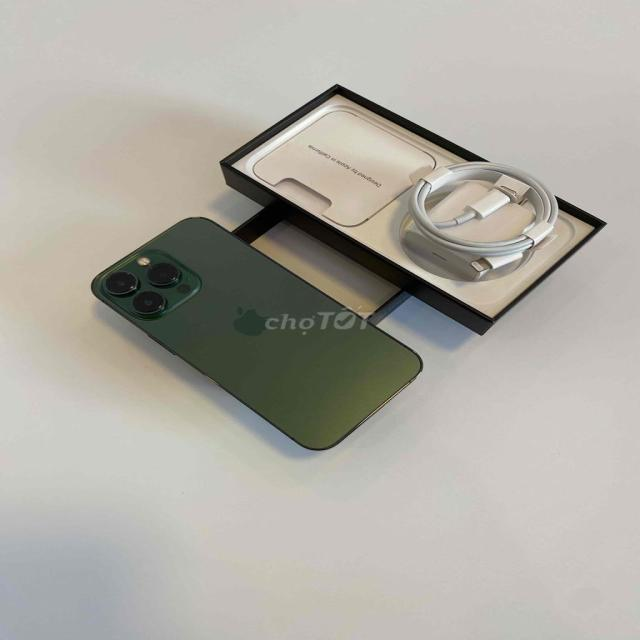gen_12_13: (83, 214, 427, 455)
